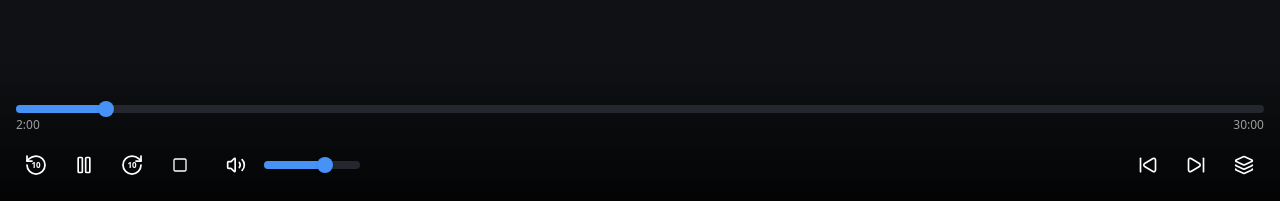
Scenario: Controls source menu › never shows the login an address carries
Click the button named "Source".
click(1244, 165)  # box top-left (1224, 145), bottom-right (1264, 185)
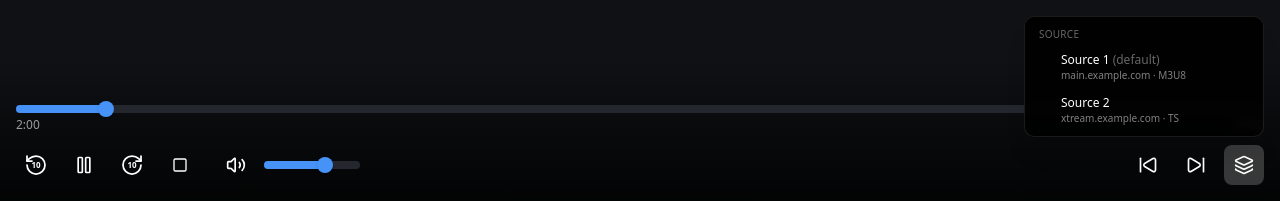
Expected: the menu does not show "alice", top-left (1024, 16), bottom-right (1264, 137)
Now the menu shows "xtream.example.com · TS", box top-left (1029, 89), bottom-right (1259, 132)
